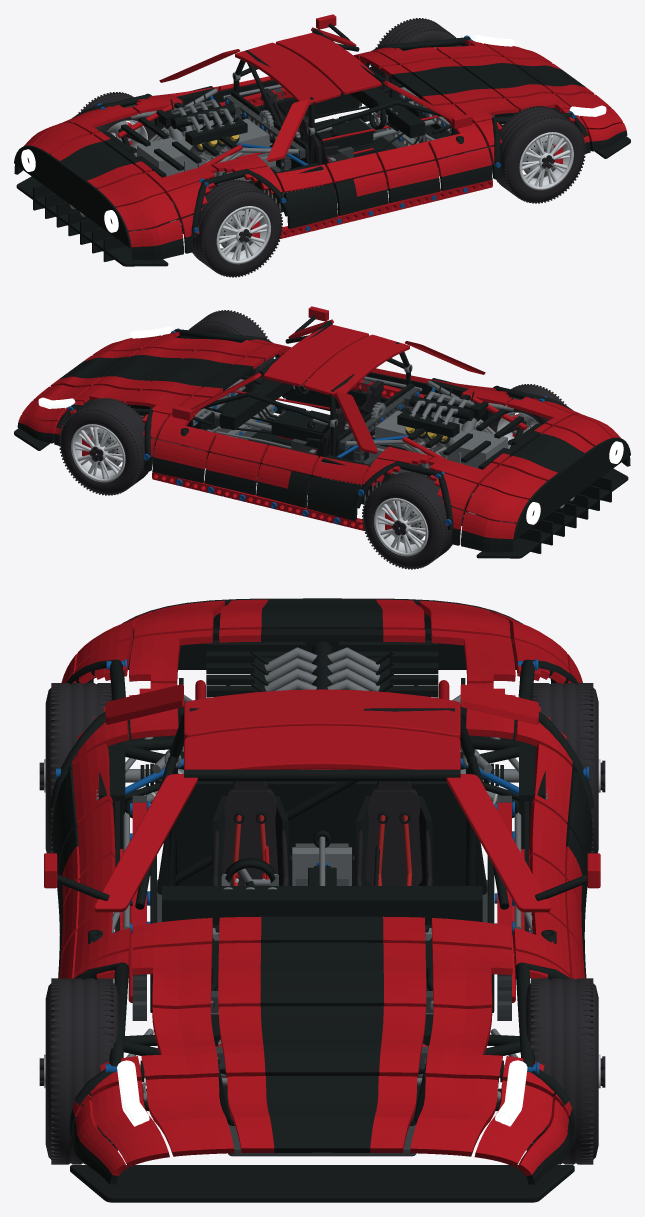
3 views of the same model, one above another, from view 1: azimuth 30°, elevation 25°; view 2: azimuth 150°, elevation 25°; view 3: azimuth 270°, elevation 25° (orthographic). The views are drawn at different scales.
Visible parts, largest first — view 1: rueda_del_izq, rueda_tras_izq, panel_trasera, panel_techo_0, panel_techo_1, panel_carroceria_04, panel_carroceria_53, panel_carroceria_60, llanta_del_izq, llanta_tras_izq, motor_bloque, talonera_izq (+63 smaller); view 2: rueda_del_der, rueda_tras_der, panel_trasera, panel_techo_0, panel_techo_1, panel_carroceria_04, panel_carroceria_53, panel_carroceria_60, llanta_del_der, llanta_tras_der, motor_bloque, talonera_der (+64 smaller); view 3: splitter_del, panel_carroceria_60, panel_carroceria_67, panel_carroceria_53, panel_mamparo, panel_techo_1, salpicadero, panel_techo_0, rueda_del_izq, rueda_del_der, asiento_der, asiento_izq (+74 smaller).
Boxes of the visible parts, left/top/right/bottom form: rueda_del_izq: left=490, top=105, right=585, bottom=203; rueda_tras_izq: left=190, top=179, right=282, bottom=277; panel_trasera: left=14, top=145, right=131, bottom=247; panel_techo_0: left=235, top=42, right=340, bottom=105; panel_techo_1: left=276, top=32, right=381, bottom=94; panel_carroceria_04: left=51, top=134, right=142, bottom=188; panel_carroceria_53: left=401, top=58, right=502, bottom=105; panel_carroceria_60: left=453, top=56, right=551, bottom=99; llanta_del_izq: left=519, top=132, right=573, bottom=190; llanta_tras_izq: left=216, top=206, right=270, bottom=264; motor_bloque: left=137, top=118, right=269, bottom=176; talonera_izq: left=279, top=180, right=492, bottom=239; rueda_del_der: left=59, top=397, right=154, bottom=495; rueda_tras_der: left=362, top=471, right=454, bottom=569; panel_trasera: left=513, top=437, right=630, bottom=539; panel_techo_0: left=304, top=334, right=409, bottom=397; panel_techo_1: left=263, top=324, right=368, bottom=386; panel_carroceria_04: left=502, top=426, right=593, bottom=480; panel_carroceria_53: left=142, top=350, right=243, bottom=397; panel_carroceria_60: left=93, top=348, right=191, bottom=391; llanta_del_der: left=71, top=424, right=125, bottom=482; llanta_tras_der: left=374, top=498, right=428, bottom=556; motor_bloque: left=375, top=410, right=507, bottom=468; talonera_der: left=152, top=472, right=365, bottom=531; splitter_del: left=70, top=1165, right=574, bottom=1202; panel_carroceria_60: left=218, top=1006, right=425, bottom=1077; panel_carroceria_67: left=227, top=1076, right=417, bottom=1152; panel_carroceria_53: left=218, top=942, right=426, bottom=1009; panel_mamparo: left=157, top=781, right=487, bottom=894; panel_techo_1: left=184, top=725, right=460, bottom=769; salpicadero: left=162, top=886, right=482, bottom=924; panel_techo_0: left=184, top=689, right=460, bottom=739; rueda_del_izq: left=45, top=978, right=118, bottom=1164; rueda_del_der: left=525, top=978, right=598, bottom=1164; asiento_der: left=355, top=781, right=432, bottom=932; asiento_izq: left=211, top=781, right=288, bottom=932.
Bounding box in the file's own units: 0.52 × 0.13 × 0.25.
